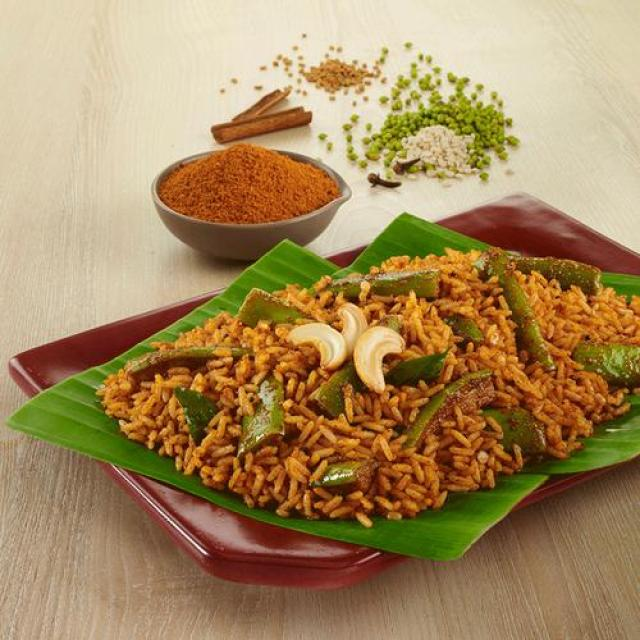vangi bath: (84, 240, 640, 545)
